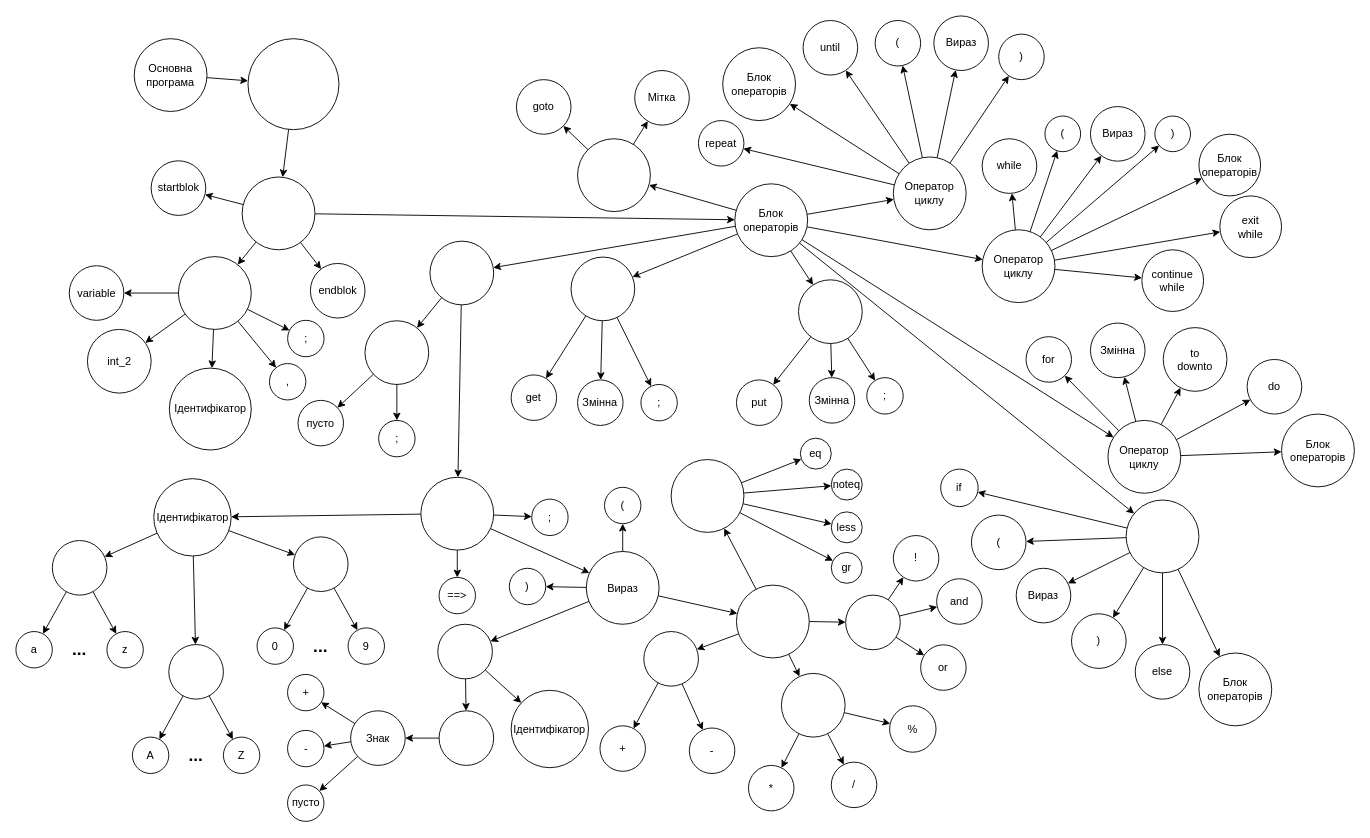
Some shapes in this 1370 by 838 pixel diagram are drawn without their labels. Here are the shapes that lost their labels. From the top down, the box of each, then its label:
(247, 38, 339, 130): startprogram
(577, 138, 650, 212): Оператор переходу
(241, 176, 315, 250): Блок коду
(178, 256, 251, 329): Блок змінних
(429, 240, 494, 305): Простий оператор
(570, 256, 635, 321): Оператор вводу
(798, 279, 862, 344): Оператор виводу
(364, 320, 429, 384): Порожній оператор
(420, 476, 494, 550): Присвоєння
(670, 459, 744, 532): Операції порівняння
(1125, 499, 1199, 573): Оператор умови
(51, 540, 107, 595): Мала буква
(293, 536, 348, 592): Цифра
(736, 584, 809, 658): Операції
(845, 594, 900, 650): Логічна операція
(437, 623, 492, 679): Операнд
(643, 631, 698, 686): Адитивна операція
(168, 644, 223, 699): Велика буква
(781, 672, 845, 737): Мультиплі кативна операція
(438, 710, 494, 765): Константа
